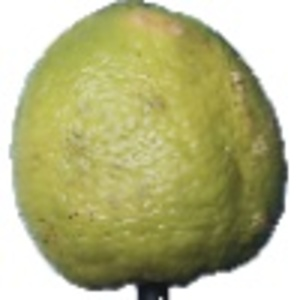limão: (11, 1, 288, 300)
